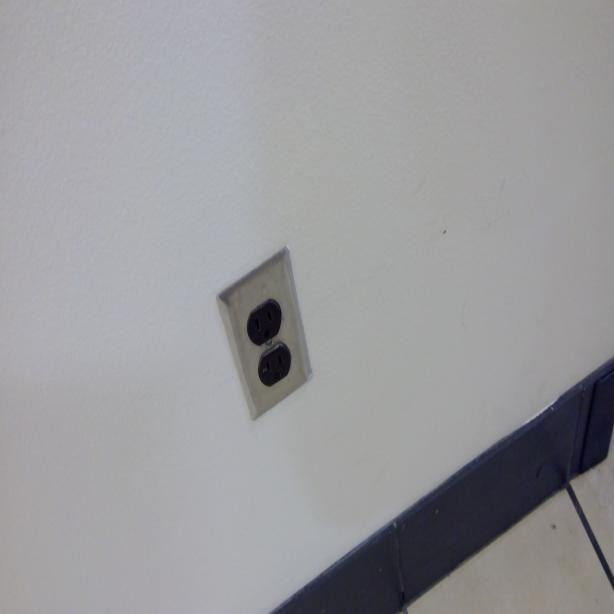typeb: (245, 298, 280, 340), (258, 346, 291, 388)
